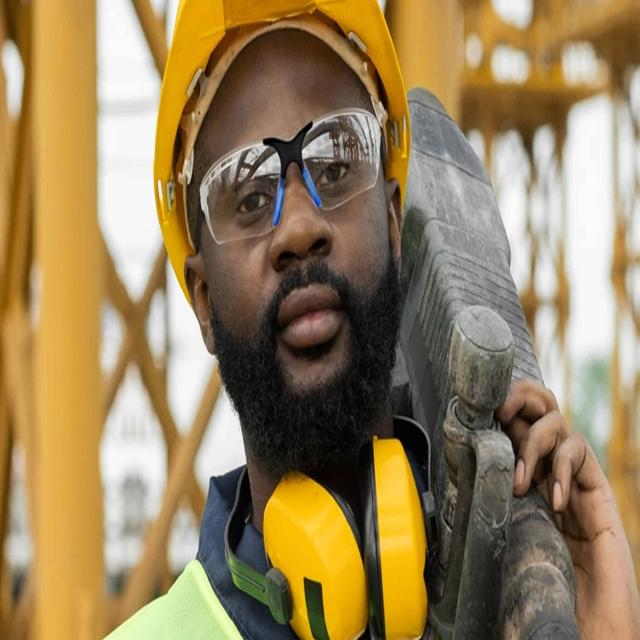goggles: (178, 85, 403, 256)
helmet: (142, 1, 414, 114)
